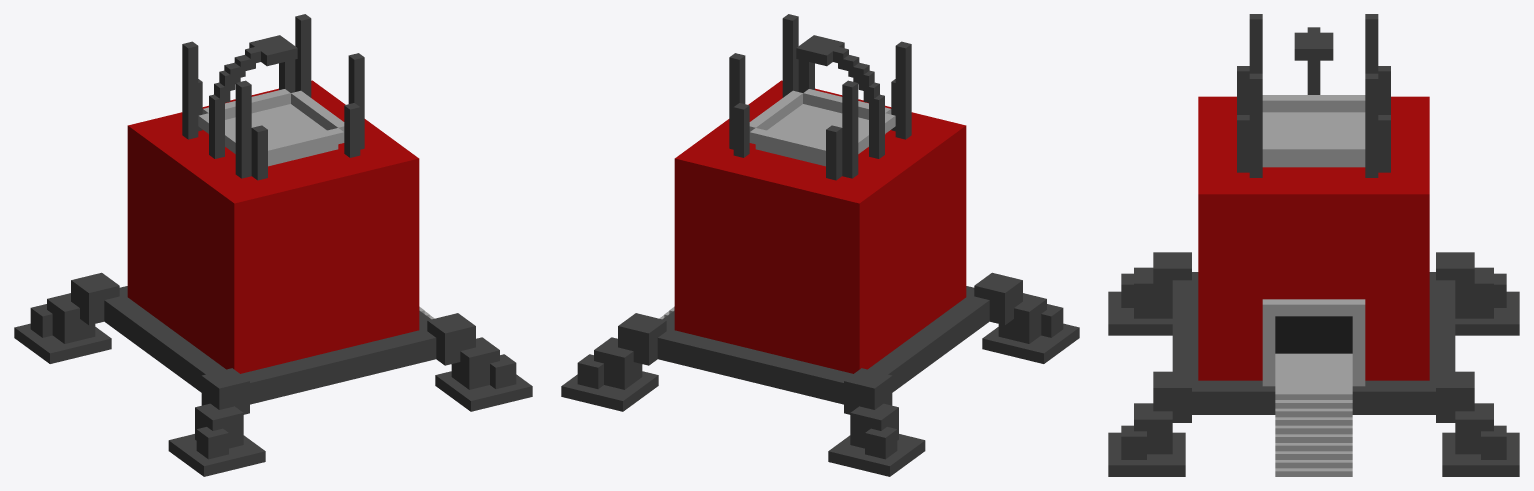
The model's file is Red-3.obj.
3 views of the same model, side by side, from view 1: azimuth 30°, elevation 25°; view 2: azimuth 150°, elevation 25°; view 3: azimuth 270°, elevation 25° (orthographic). The views are drawn at different scales.
Parts seen in each view (by area): view 1: Red-3; view 2: Red-3; view 3: Red-3.
Boxes of the visible parts, x1,y1,x2,y2 form: Red-3: [14, 14, 532, 476]; Red-3: [561, 14, 1079, 476]; Red-3: [1108, 14, 1519, 476].
Size of the model in its own units: 64 by 60 by 64.
1 material, 1 textured.
